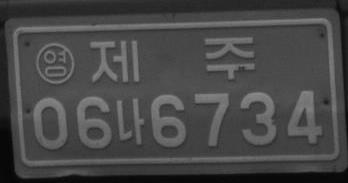0: (31, 95, 68, 150)
3: (239, 90, 278, 145)
4: (286, 90, 323, 145)
6: (74, 94, 113, 151), (149, 92, 187, 148)
7: (193, 92, 231, 147)
나: (114, 96, 145, 145)
영: (35, 41, 76, 85)
제주_D: (87, 33, 255, 84)
